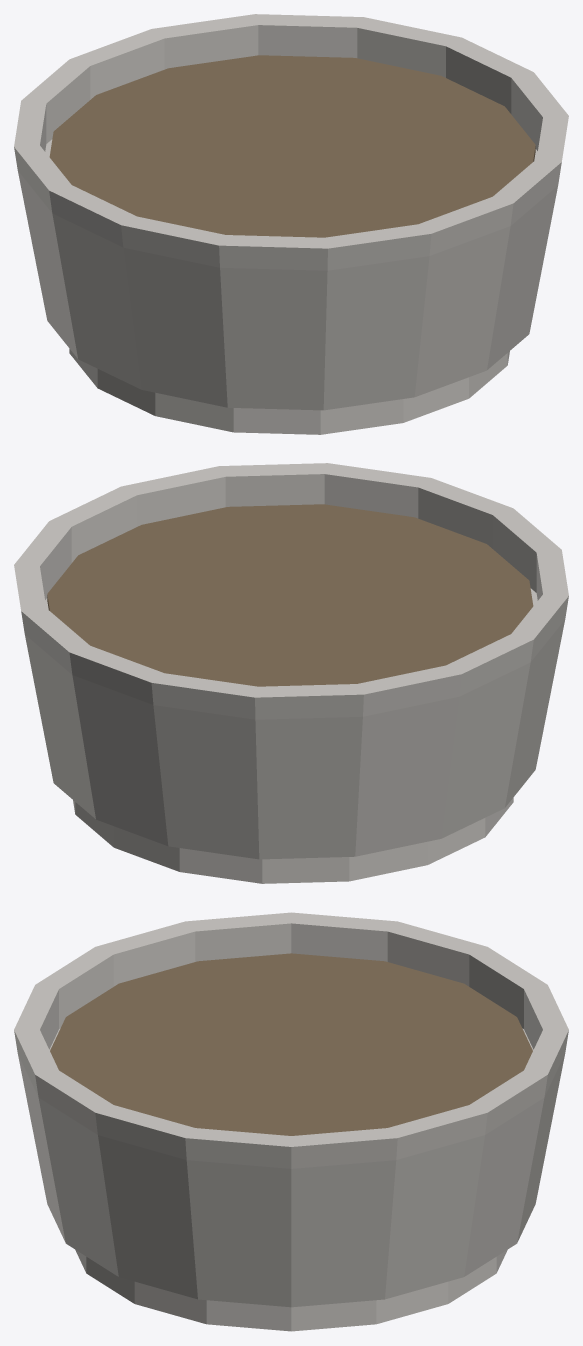
Rendered from planter_large.glb.
3 renders of one model, top to bottom at view 1: azimuth 30°, elevation 25°; view 2: azimuth 150°, elevation 25°; view 3: azimuth 270°, elevation 25°, orthographic.
Visible parts, largest first — view 1: planter_large; view 2: planter_large; view 3: planter_large.
Boxes of the visible parts, x1,y1,x2,y2 form: planter_large: (14,14,568,434); planter_large: (14,463,568,883); planter_large: (14,912,568,1331).
Size of the model in its own units: 1.5 by 0.62 by 1.5.
